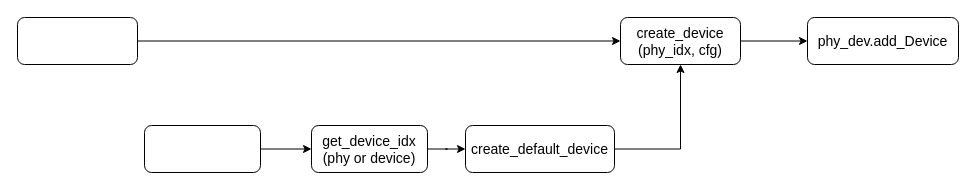
Some shapes in this 976 by 190 pixel diagram are drawn without their labels. The centre of each missing label's shape, as x and y in pixels:
current_device: the point at 202,148
py::create_mesh: the point at 77,40
